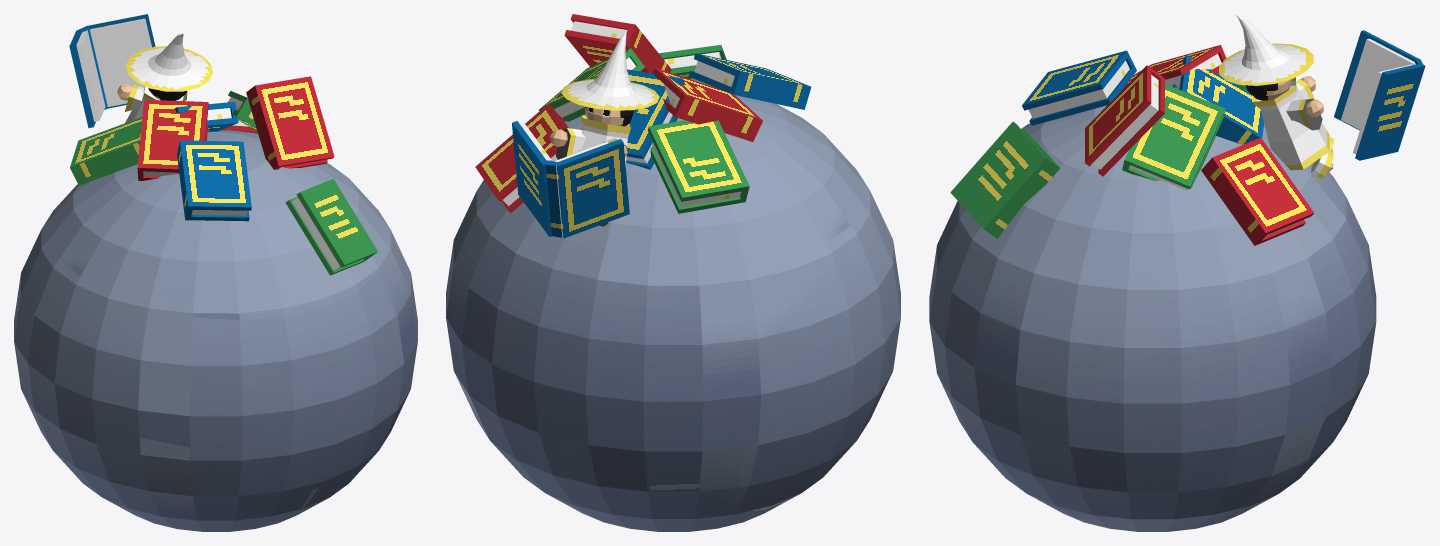
Rendered from booksPlanet.gltf.
The picture shows the model from 3 angles, left to right: view 1: azimuth 30°, elevation 25°; view 2: azimuth 150°, elevation 25°; view 3: azimuth 270°, elevation 25°; orthographic projection. The views are drawn at different scales.
Parts seen in each view (by area): view 1: planet, cover_2 (×6), cover_1 (×2), hat, page_1, page_2, back (×2); view 2: planet, cover_2 (×8), cover_1 (×5), hat, back (×3), coat, head, arm-left; view 3: planet, cover_2 (×7), cover_1 (×5), hat, coat, page_2, back (×2), page_1 (×2), arm-left, head.
Boxes of the visible parts, bbox=[...] form: planet: bbox=[14, 130, 417, 531]; cover_2 (×6): bbox=[69, 30, 365, 275]; cover_1 (×2): bbox=[177, 152, 377, 267]; hat: bbox=[125, 33, 212, 91]; page_1: bbox=[90, 18, 151, 106]; page_2: bbox=[76, 30, 105, 121]; back (×2): bbox=[72, 87, 280, 180]; planet: bbox=[446, 79, 900, 531]; cover_2 (×8): bbox=[475, 14, 811, 238]; cover_1 (×5): bbox=[512, 30, 806, 236]; hat: bbox=[561, 32, 659, 110]; back (×3): bbox=[545, 76, 809, 237]; coat: bbox=[574, 115, 631, 166]; head: bbox=[585, 106, 633, 126]; arm-left: bbox=[556, 128, 585, 159]; planet: bbox=[929, 105, 1376, 531]; cover_2 (×7): bbox=[1022, 30, 1420, 236]; cover_1 (×5): bbox=[950, 63, 1425, 245]; hat: bbox=[1219, 14, 1313, 85]; coat: bbox=[1252, 77, 1329, 170]; page_2: bbox=[1341, 38, 1415, 129]; back (×2): bbox=[987, 158, 1266, 242]; page_1 (×2): bbox=[1030, 64, 1158, 169]; arm-left: bbox=[1286, 98, 1322, 130]; head: bbox=[1245, 79, 1291, 100].
Size of the model in its own units: 4.69 by 5.79 by 5.2.
Materials: 5 (5 with a texture image).
